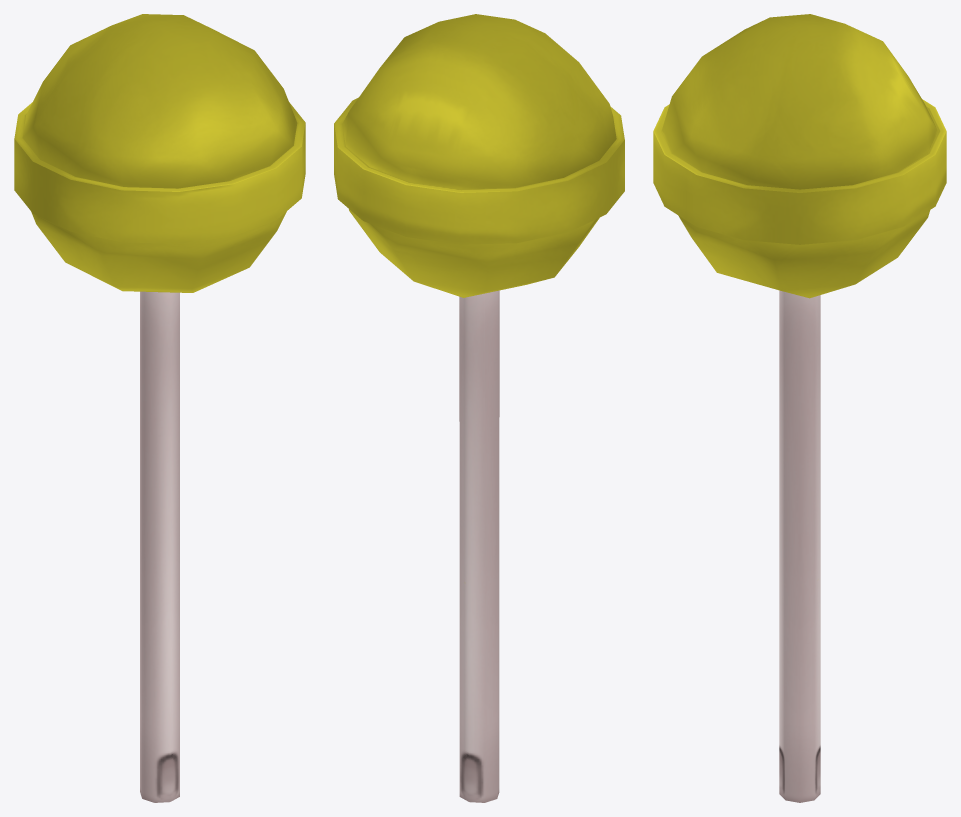
Rendered from Lolipop.glb.
The picture shows the model from 3 angles, left to right: view 1: azimuth 30°, elevation 25°; view 2: azimuth 150°, elevation 25°; view 3: azimuth 270°, elevation 25°; orthographic projection.
Parts seen in each view (by area): view 1: Object_9.002; view 2: Object_9.002; view 3: Object_9.002.
Part boxes in pixels (x1,y1,x2,y2): Object_9.002: [14, 14, 305, 802]; Object_9.002: [334, 14, 624, 802]; Object_9.002: [653, 14, 946, 802].
Size of the model in its own units: 0.0752 by 0.2174 by 0.0752.
1 material, 1 textured.
